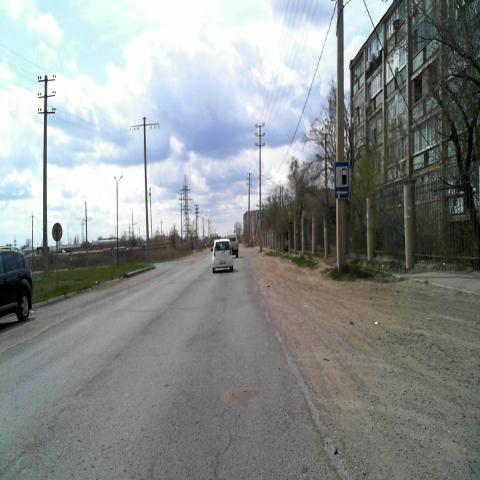7_3: (334, 160, 350, 199)
